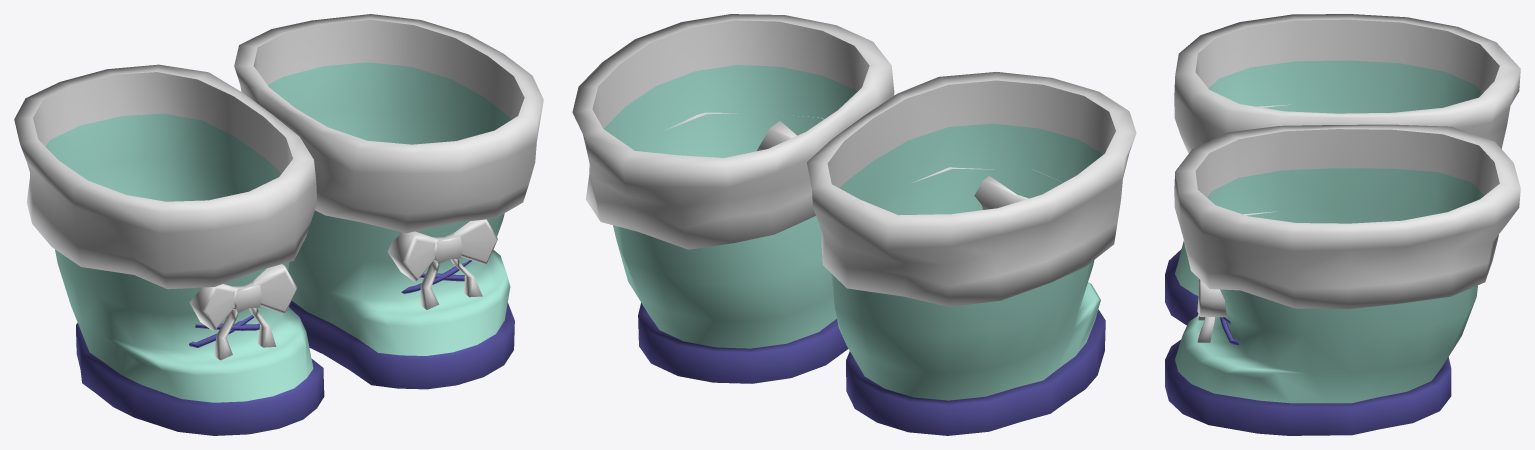
The model's file is Boots06_fluff.fbx.
3 views of the same model, side by side, from view 1: azimuth 30°, elevation 25°; view 2: azimuth 150°, elevation 25°; view 3: azimuth 270°, elevation 25° (orthographic). The views are drawn at different scales.
Parts seen in each view (by area): view 1: Fluffyboots; view 2: Fluffyboots; view 3: Fluffyboots.
Part boxes in pixels (x1,y1,x2,y2): Fluffyboots: (14, 14, 543, 435); Fluffyboots: (572, 14, 1136, 435); Fluffyboots: (1165, 14, 1520, 435).
Bounding box in the file's own units: 112 × 53.26 × 76.42.
